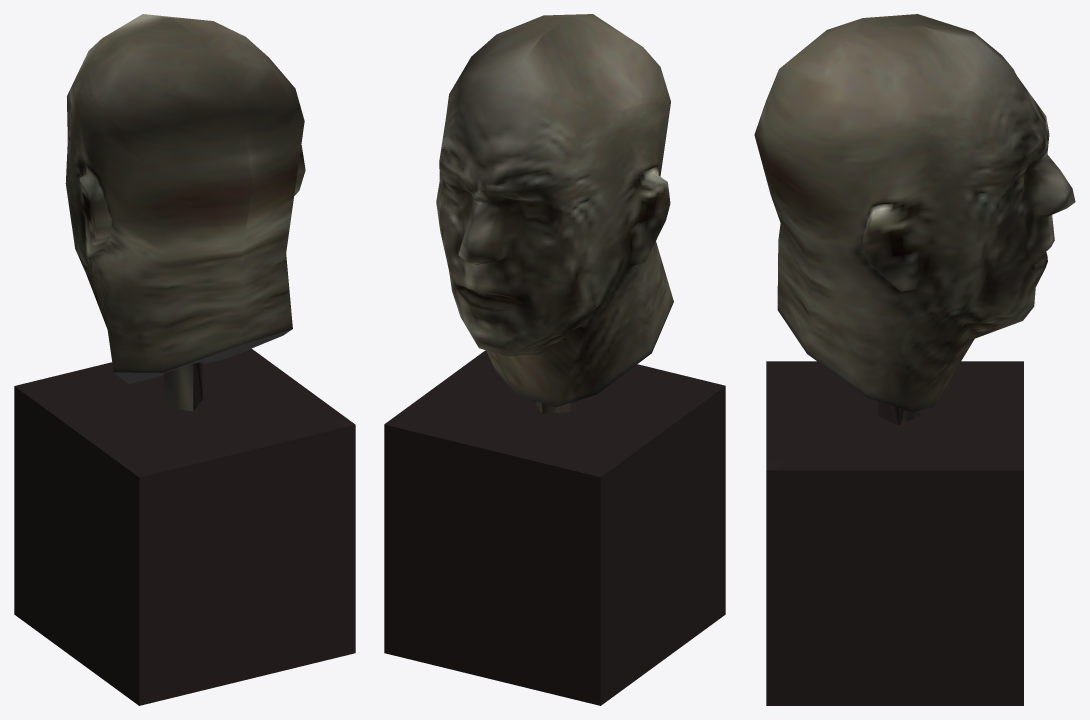
Rendered from getaway_icon.ico.obj.
The picture shows the model from 3 angles, left to right: view 1: azimuth 30°, elevation 25°; view 2: azimuth 150°, elevation 25°; view 3: azimuth 270°, elevation 25°; orthographic projection. The views are drawn at different scales.
Size of the model in its own units: 1.84 by 4.93 by 2.3.
1 material, 1 textured.
